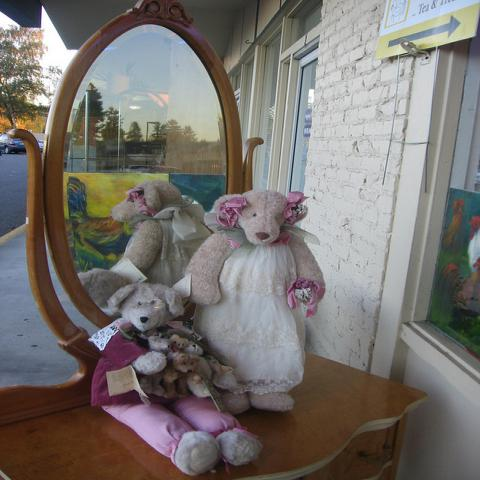car: (0, 134, 27, 154), (31, 133, 44, 153)
